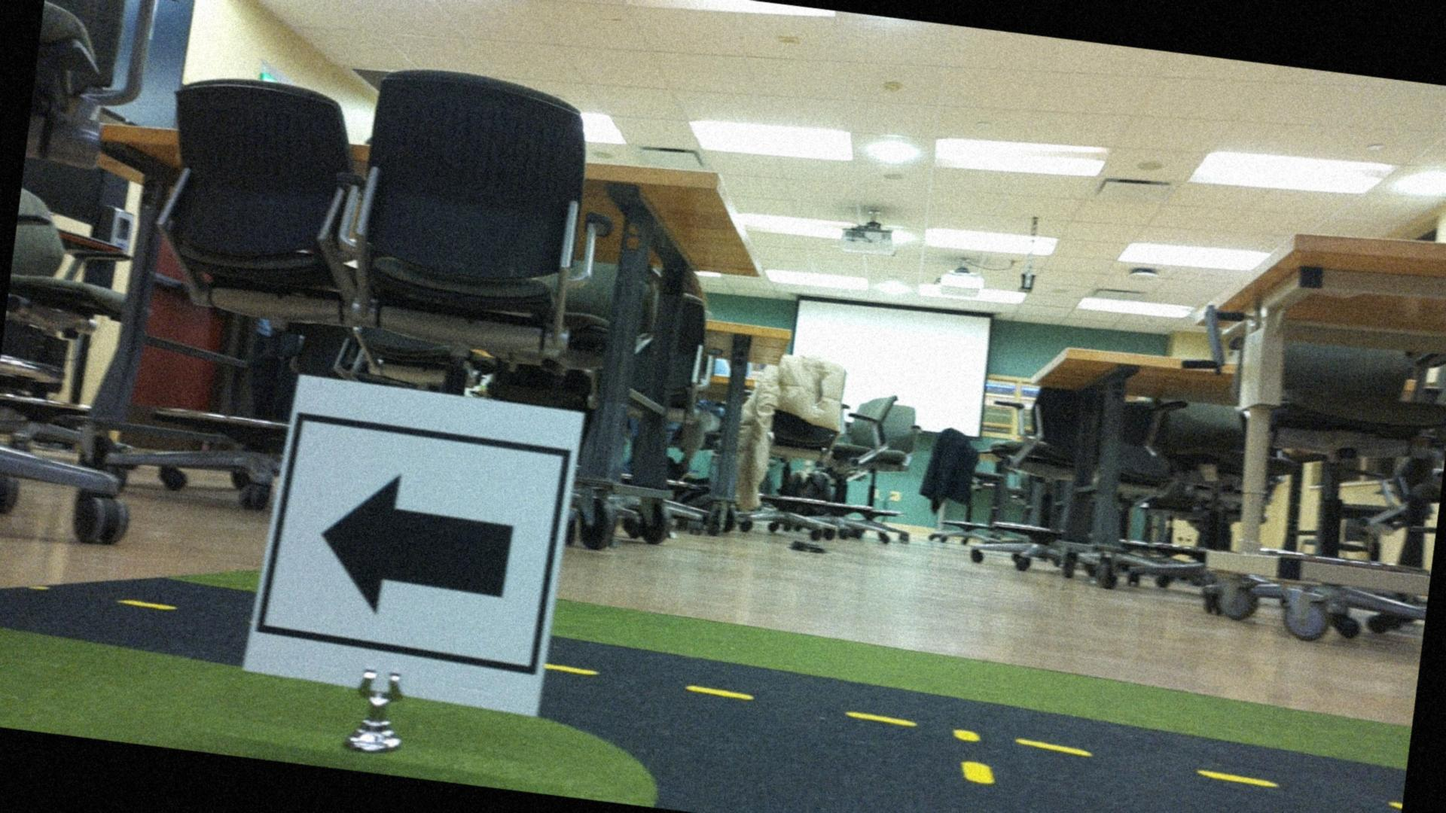turnleft: (267, 380, 572, 710)
yellowline: (548, 662, 1407, 806), (956, 758, 1022, 812)
